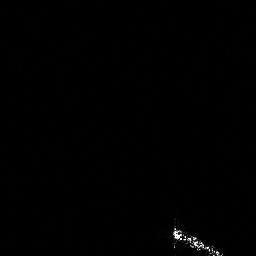ship: (169, 223, 226, 256)
